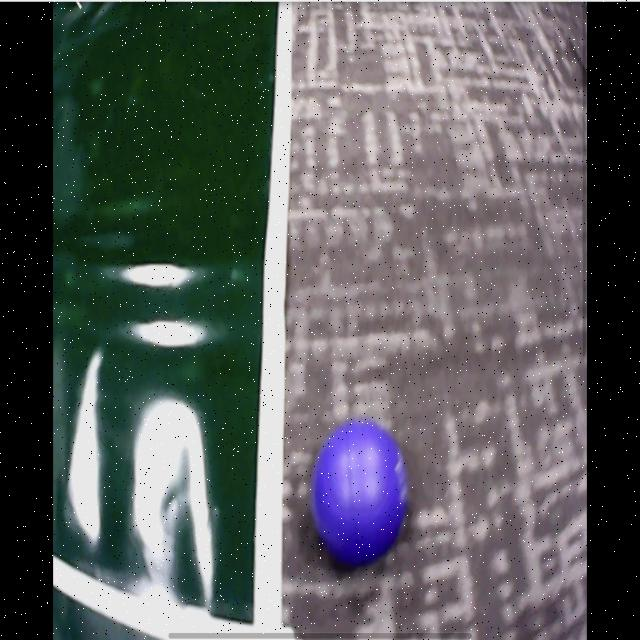ball: (314, 421, 409, 565)
